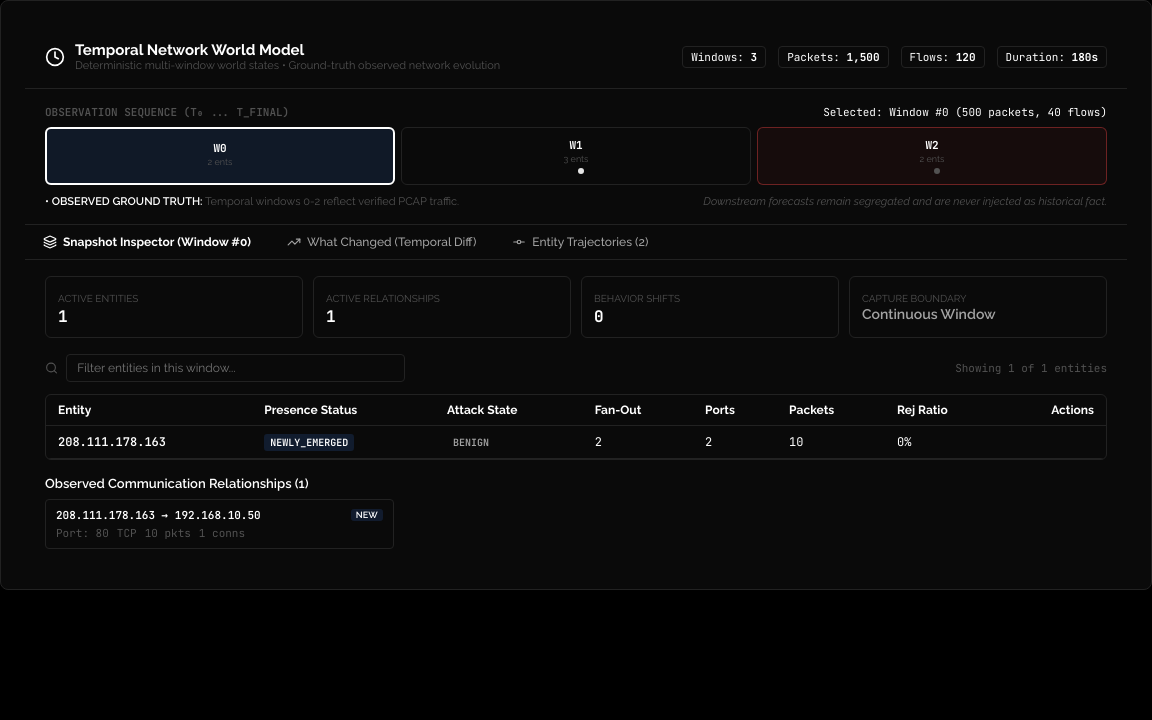
Test: TemporalWorldView Component › switches to Entity Trajectories tab and displays presence heatstrips
Click the button "Entity Trajectories (2)" at (580, 242), box [494,225,666,259]
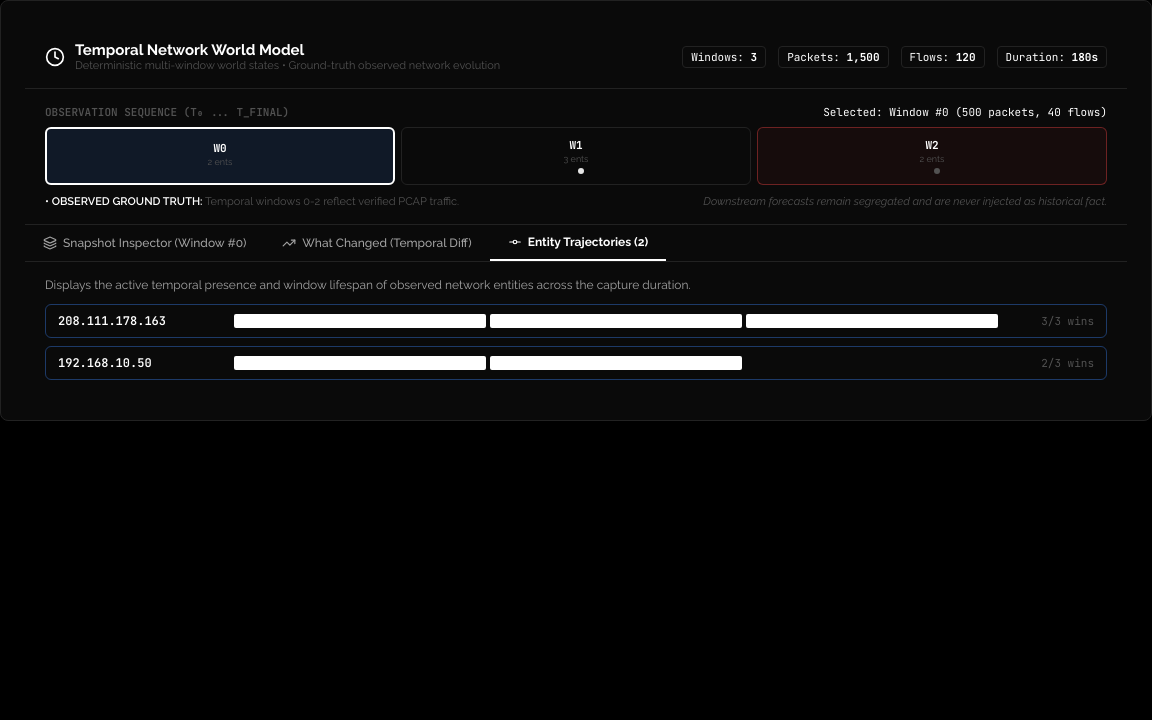
Expected: the text "208.111.178.163" is shown, [58,313,166,329]
Expected: the text "3/3 wins" is shown, [1041,314,1094,328]
